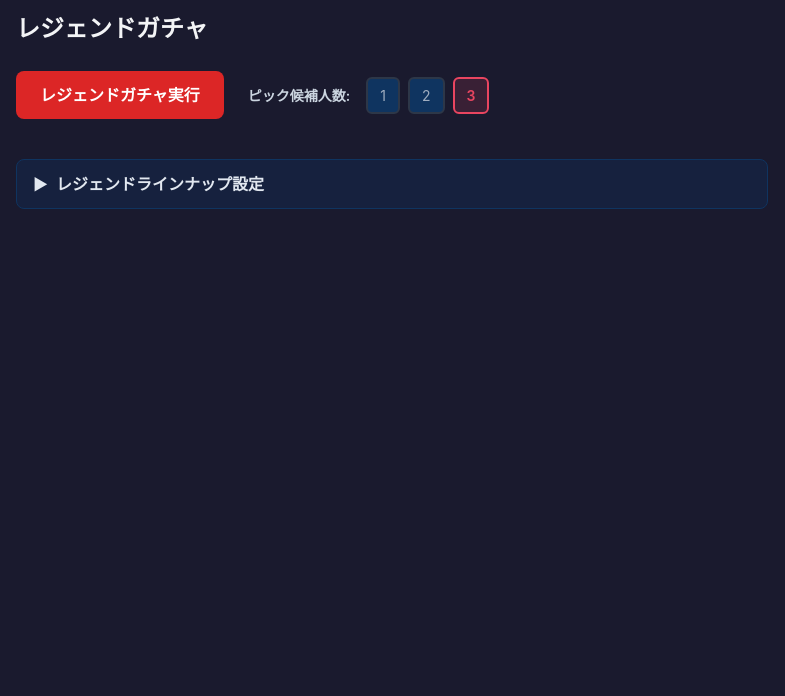
Test: Integration: Localized rendering › Japanese locale (ja) › legend names display in Japanese from translation files
Expand the collapsible lineup section
Click the button "▶ レジェンドラインナップ設定": (160, 184) [17,160,767,208]
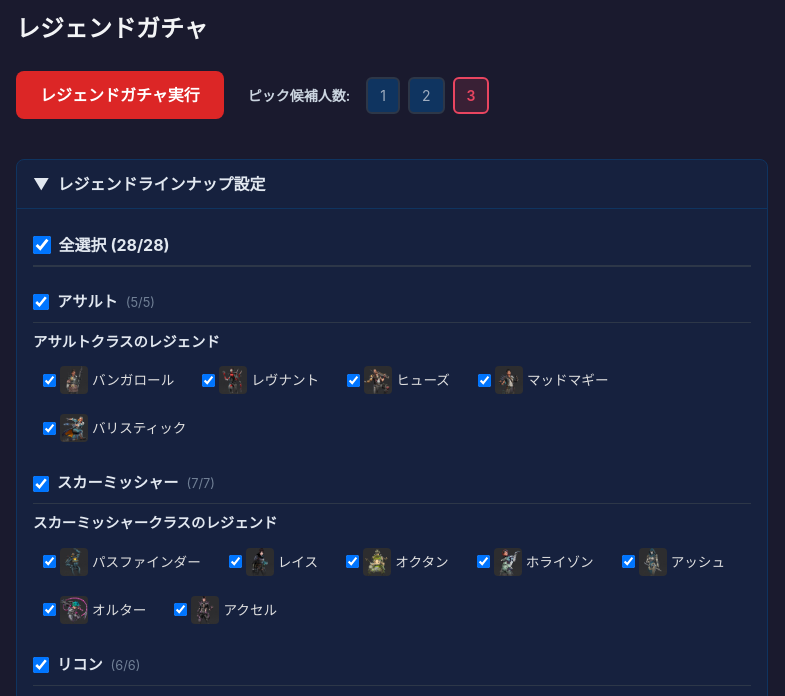
Expected: the checkbox labelled "バンガロール" is shown, [43,374,56,387]
Expected: the checkbox labelled "レイス" is shown, [229,555,242,568]
Expected: the checkbox labelled "オクタン" is shown, [346,555,359,568]
